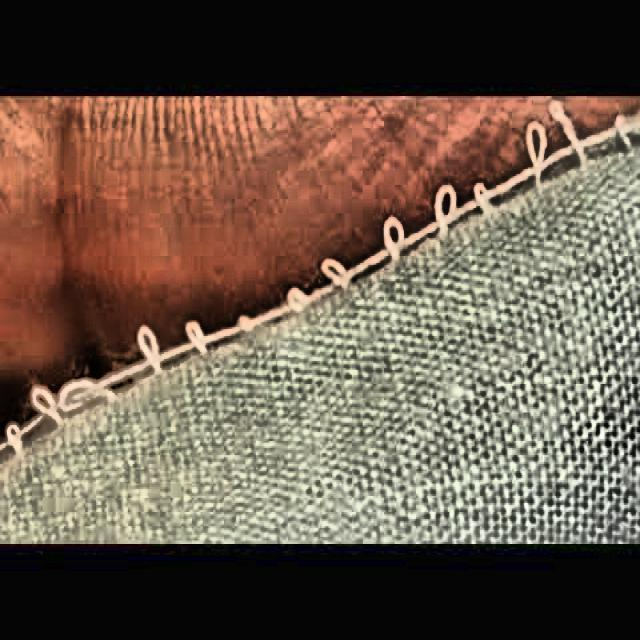gray stitch: (4, 112, 634, 471)
